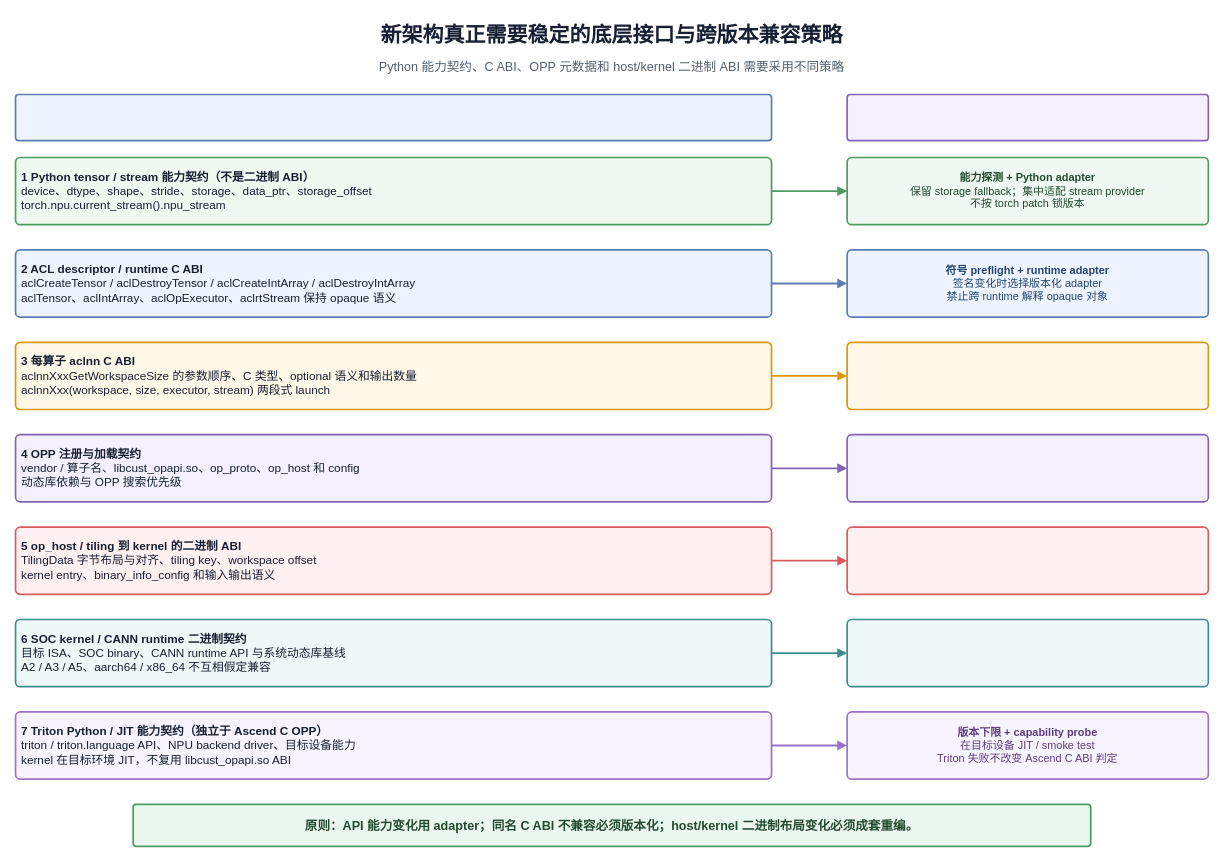
The diagram is 1223 pixels wide and 861 high, and some of its shapes have lost their labels. The centre of each missing label's shape, as x and y in pixels:
"host + kernel 成套重编发布 布局变化增加 version / magic 或新 tiling key 不允许新 host 配旧 kernel" goes at [1027,560].
"同一 vendor 树原子交付 run 覆盖同步更新 manifest 禁止混用不同版本的共享 opapi / tiling / proto" goes at [1027,467].
"按 SOC / host 分包 + fail-fast 校验已验证的 CANN 范围和必需符号 不支持的组合直接拒绝，不做静默 fallback" goes at [1027,652].
"旧符号签名冻结 不兼容修改发布新符号 / V2 wrapper 按符号或 manifest 选择；header hash 进 CI" goes at [1027,375].
"稳定接口 / ABI 契约" goes at [393,117].
"跨版本不一致时的策略" goes at [1027,117].
